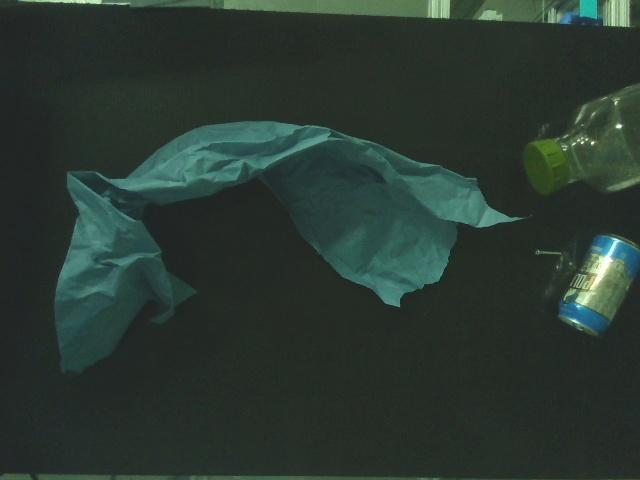metal: (553, 232, 640, 344)
paper: (51, 117, 535, 379)
plastic: (515, 76, 640, 202)
